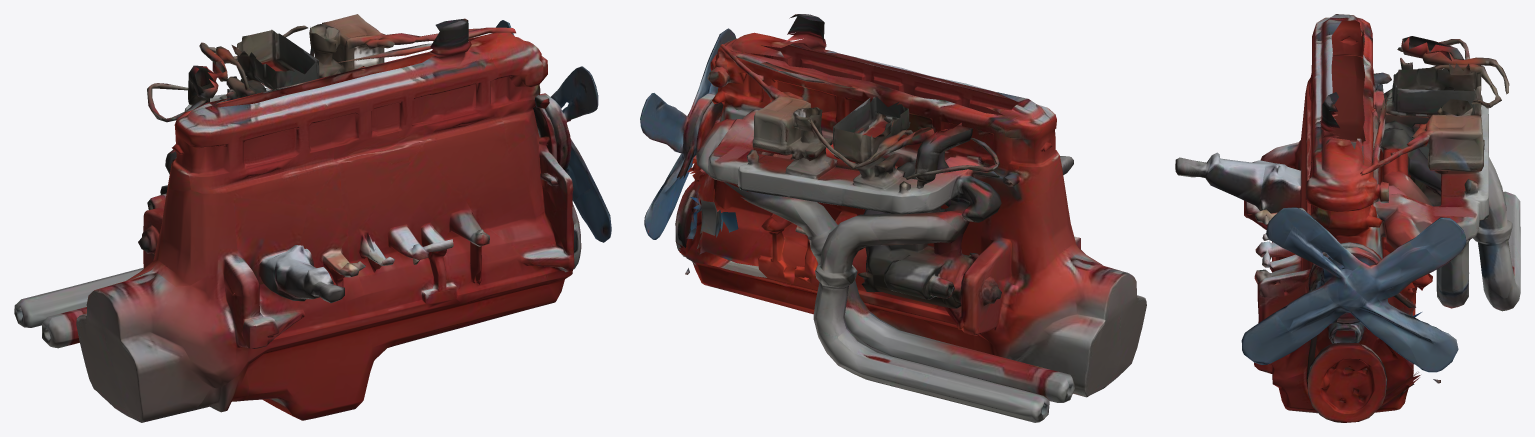
The model's file is engine_holden_202.glb.
3 renders of one model, left to right at view 1: azimuth 30°, elevation 25°; view 2: azimuth 150°, elevation 25°; view 3: azimuth 270°, elevation 25°, orthographic. The views are drawn at different scales.
Parts seen in each view (by area): view 1: engine_holden_202; view 2: engine_holden_202; view 3: engine_holden_202.
Boxes of the visible parts, x1,y1,x2,y2 form: engine_holden_202: (14, 14, 611, 422); engine_holden_202: (640, 14, 1146, 422); engine_holden_202: (1175, 14, 1520, 422).
Bounding box in the file's own units: 0.86 × 0.6126 × 0.573.
Materials: 1 (1 with a texture image).
